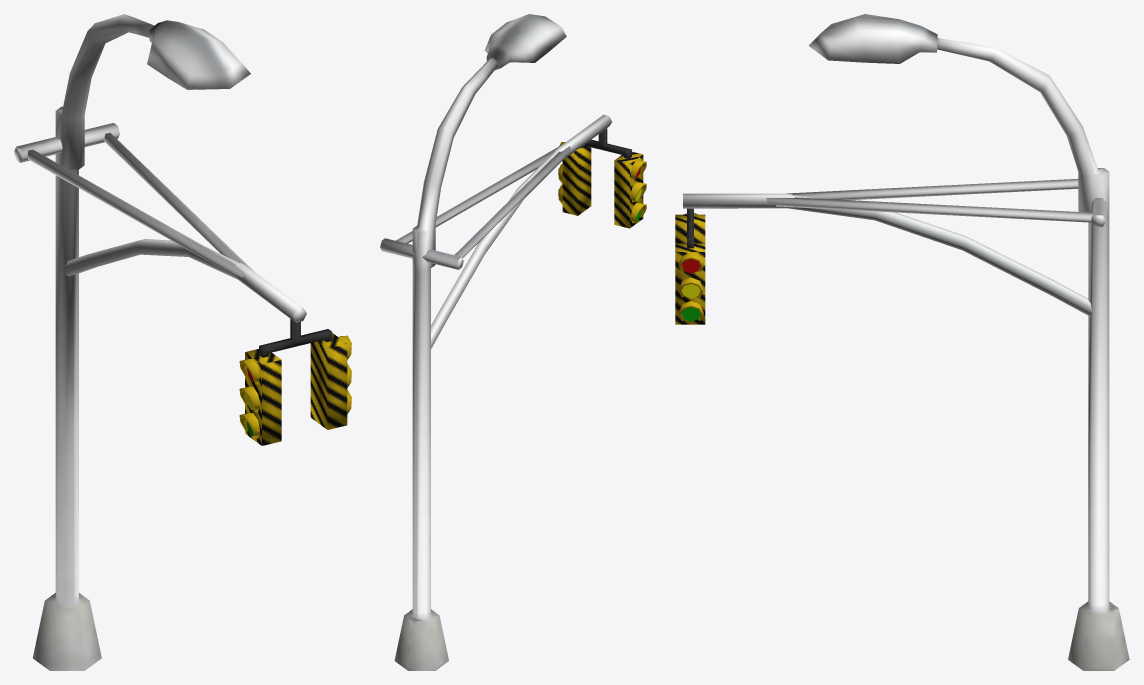
File: Ambi1.fbx
3 views of the same model, side by side, from view 1: azimuth 30°, elevation 25°; view 2: azimuth 150°, elevation 25°; view 3: azimuth 270°, elevation 25° (orthographic). The views are drawn at different scales.
Visible parts, largest first — view 1: polySurface6378; view 2: polySurface6378; view 3: polySurface6378.
Boxes of the visible parts, x1,y1,x2,y2 form: polySurface6378: (14, 14, 351, 670); polySurface6378: (380, 14, 646, 670); polySurface6378: (675, 14, 1129, 670).
Bounding box in the file's own units: 0.00367 × 0.0243 × 0.0156.
